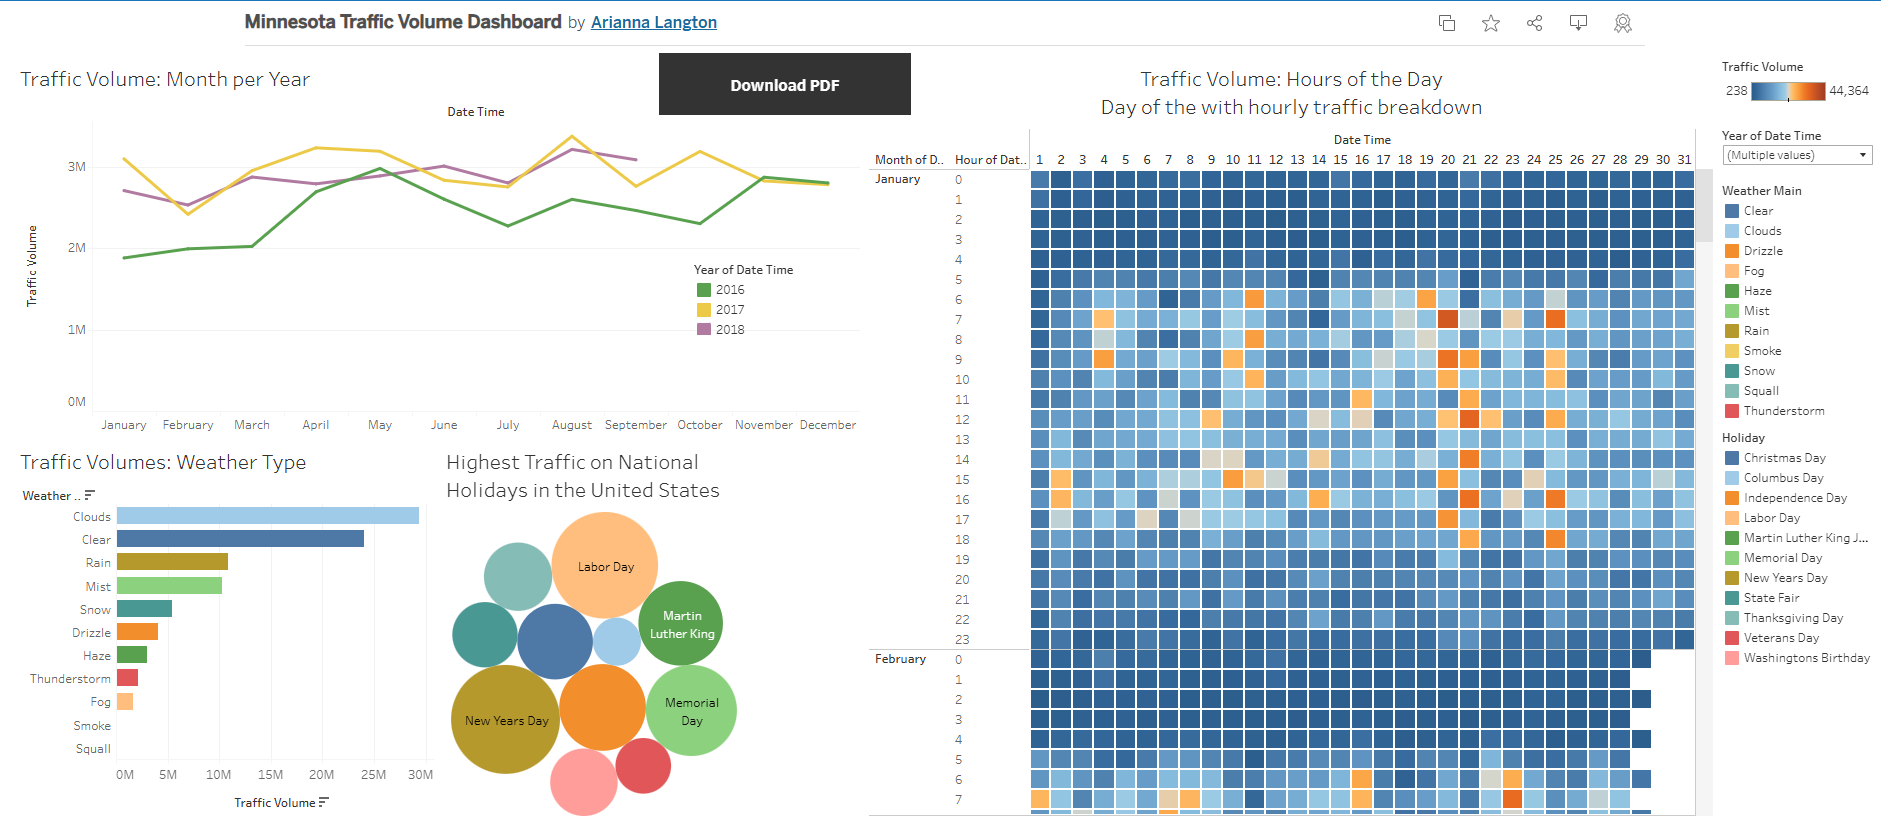

The dashboard page shown, as its layout file describes it:
{"tool":"tableau","page":{"name":"Dashboard 2","canvas":[1000,1000],"units":"permille","ordinal":0},"visuals":[{"type":"image","param":"Image/league_logo3.jpg","box":[5.2,8.3,230.2,219.8]},{"type":"text","box":[235.4,8.3,758.2,100]},{"type":"text","box":[235.4,108.4,758.2,42.1]},{"type":"image","param":"Image/top.png","box":[236,151.5,71,75.6]},{"type":"text","box":[307,151.5,80.5,75.6]},{"type":"image","param":"Image/jungle.png","box":[388.8,151.5,69.7,75.6]},{"type":"text","box":[458.5,151.5,61.3,75.6]},{"type":"image","param":"Image/mid.png","box":[531.9,151.5,78.1,75.6]},{"type":"text","box":[609.9,151.5,76.6,75.6]},{"type":"image","param":"Image/supp.png","box":[687.9,151.5,81.9,75.6]},{"type":"text","box":[769.8,151.5,69,75.6]},{"type":"image","param":"Image/bottom.png","box":[840.1,151.5,43.8,75.6]},{"type":"text","box":[883.9,151.5,109,75.6]},{"type":"worksheet","title":"Sheet 1","mark":"Automatic","rows":["Name"],"cols":["Pick %","Pick %"],"box":[5.2,228.2,352.6,381.8]},{"type":"worksheet","title":"Sheet 2","mark":"Automatic","rows":["Name","Role"],"cols":["Win %","Win %"],"box":[357.8,228.2,419,381.8]},{"type":"worksheet","title":"Sheet 4","mark":"Shape","rows":["Name"],"cols":["Role"],"box":[776.8,228.2,218.1,763.5]},{"type":"worksheet","title":"Sheet 3","mark":"Automatic","rows":["Name"],"cols":["Ban %","Ban %"],"box":[5.2,609.9,352.6,381.8]},{"type":"worksheet","title":"Sheet 5","mark":"Automatic","rows":["Role"],"cols":["Win %","Win %"],"box":[357.8,609.9,419,381.8]}]}

Visuals, with their boxes on the dashboard's canvas, which has no fixed pixel size, in thousandths of its width and height (x1, y1, x2, y2). These are canvas units, not pixel positions in the 1881x823 screenshot, which may show the page scaled, cropped or inside an application window:
image: 5, 8, 235, 228
text: 235, 8, 994, 108
text: 235, 108, 994, 150
image: 236, 152, 307, 227
text: 307, 152, 388, 227
image: 389, 152, 458, 227
text: 458, 152, 520, 227
image: 532, 152, 610, 227
text: 610, 152, 686, 227
image: 688, 152, 770, 227
text: 770, 152, 839, 227
image: 840, 152, 884, 227
text: 884, 152, 993, 227
"Sheet 1" worksheet: 5, 228, 358, 610
"Sheet 2" worksheet: 358, 228, 777, 610
"Sheet 4" worksheet (Shape marks): 777, 228, 995, 992
"Sheet 3" worksheet: 5, 610, 358, 992
"Sheet 5" worksheet: 358, 610, 777, 992
